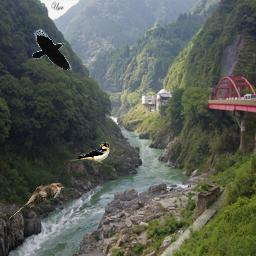Crow: (32, 29, 72, 70)
Cuckoo: (9, 182, 66, 219)
Swallow: (69, 142, 110, 163)
